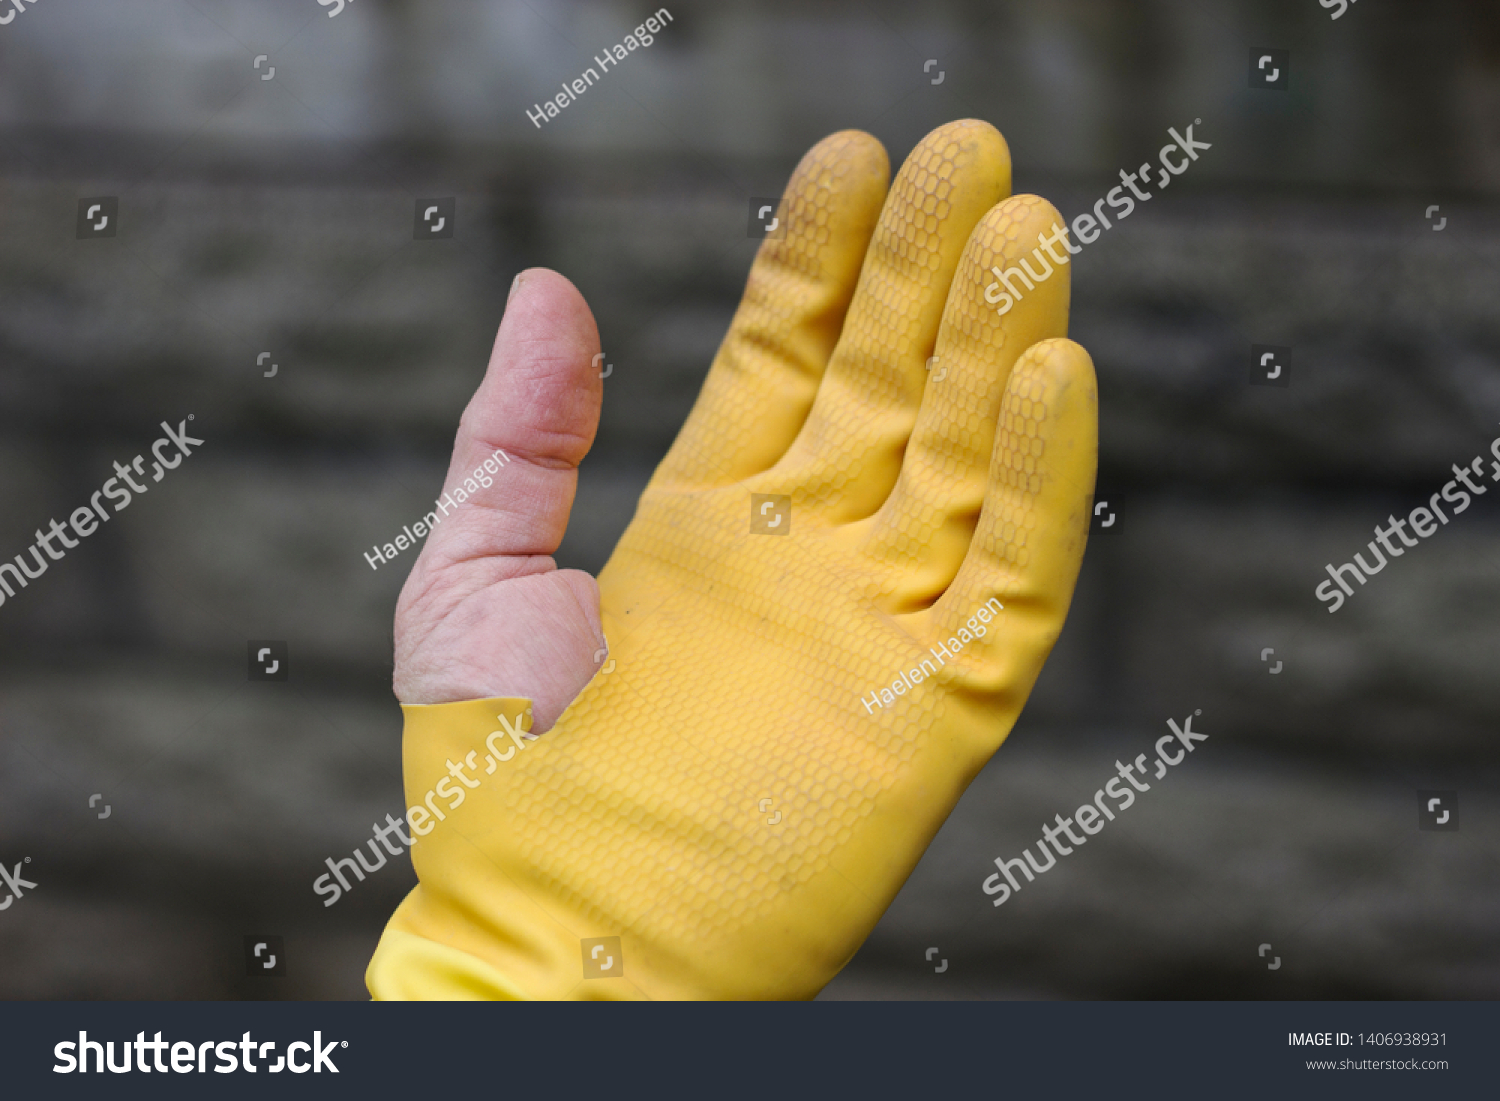defected: (283, 41, 1188, 984)
